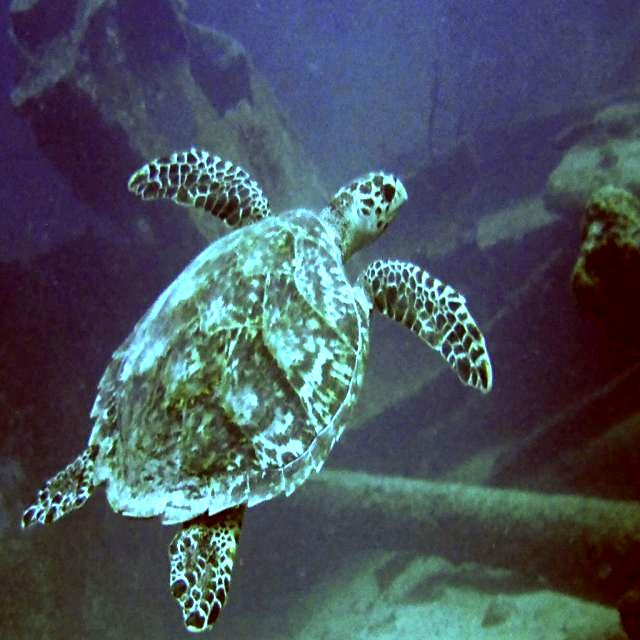Sea turtle: (22, 147, 491, 631)
